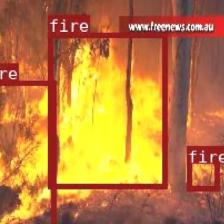fire: (48, 32, 166, 188), (0, 80, 55, 224), (186, 145, 218, 190)
